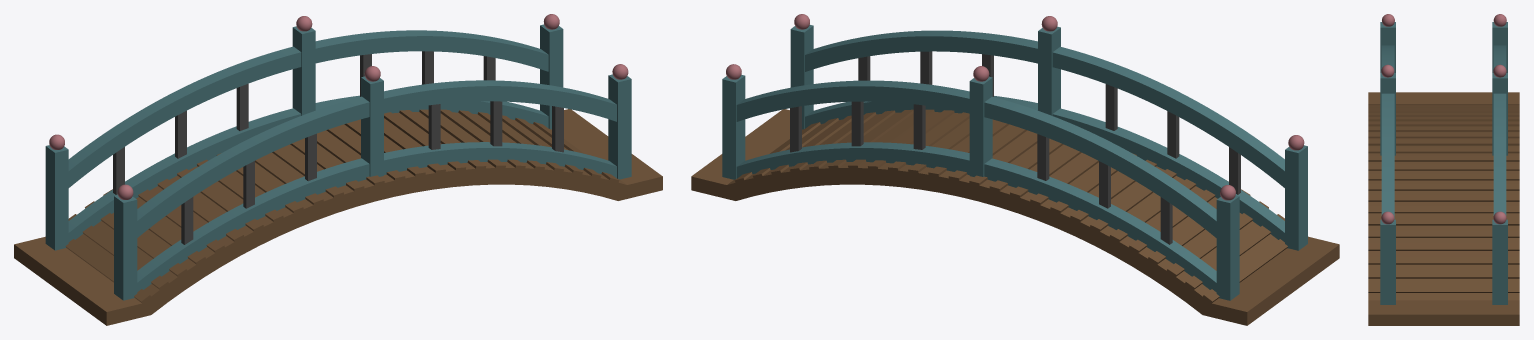
Rendered from bridge final export.fbx.
The picture shows the model from 3 angles, left to right: view 1: azimuth 30°, elevation 25°; view 2: azimuth 150°, elevation 25°; view 3: azimuth 270°, elevation 25°; orthographic projection. The views are drawn at different scales.
Parts seen in each view (by area): view 1: pCube24; view 2: pCube24; view 3: pCube24.
Part boxes in pixels (x1=…): pCube24: x1=14, y1=14, x2=662, y2=325; pCube24: x1=691, y1=14, x2=1339, y2=325; pCube24: x1=1368, y1=14, x2=1519, y2=325.
Bounding box in the file's own units: 900 × 282 × 260.
